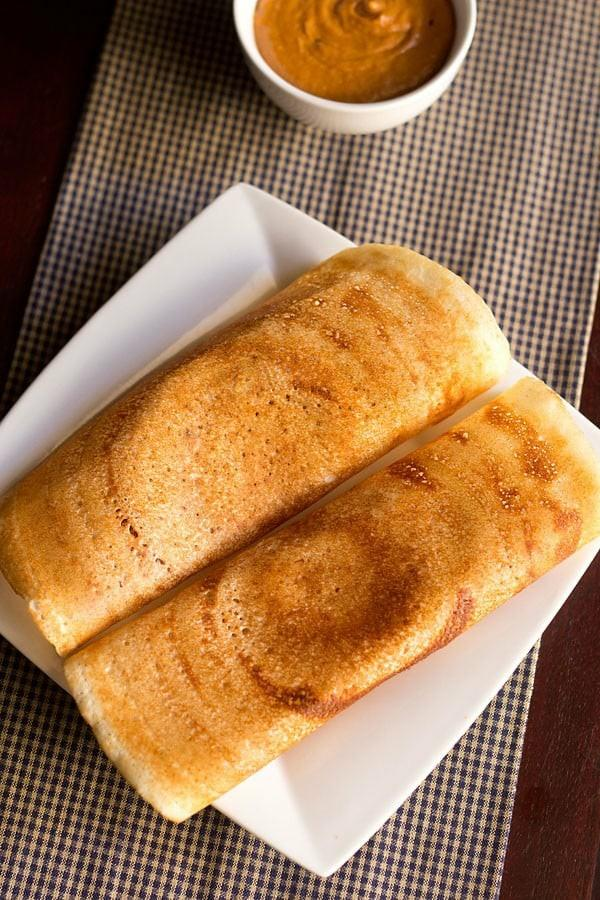Dosa: (61, 378, 600, 823), (3, 246, 510, 660)
